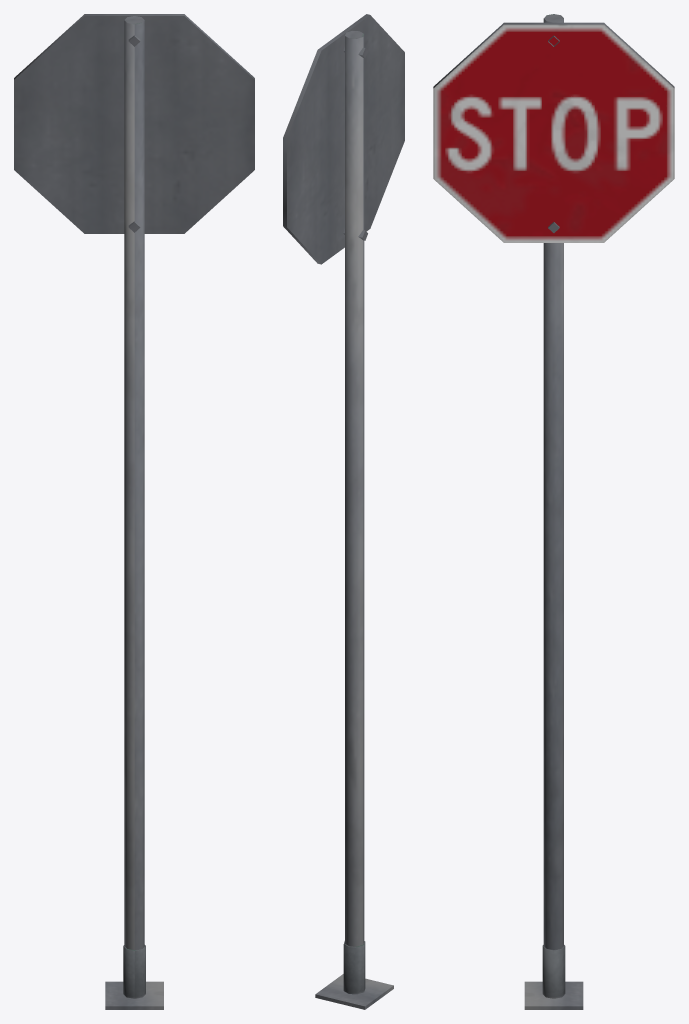
File: stop_sign.glb
3 renders of one model, left to right at view 1: azimuth 90°, elevation 25°; view 2: azimuth 150°, elevation 25°; view 3: azimuth 270°, elevation 25°, orthographic. The views are drawn at different scales.
Visible parts, largest first — view 1: STOP_SIGN, Object_292; view 2: Object_292, STOP_SIGN; view 3: STOP_SIGN, Object_292.
Part boxes in pixels (x1,y1,x2,y2): STOP_SIGN: (14, 14, 254, 233); Object_292: (105, 16, 163, 1009); Object_292: (315, 31, 393, 1009); STOP_SIGN: (283, 14, 404, 264); STOP_SIGN: (433, 22, 674, 242); Object_292: (524, 14, 583, 1009).
Bounding box in the file's own units: 0.6 × 11.04 × 2.46.
1 material, 1 textured.
